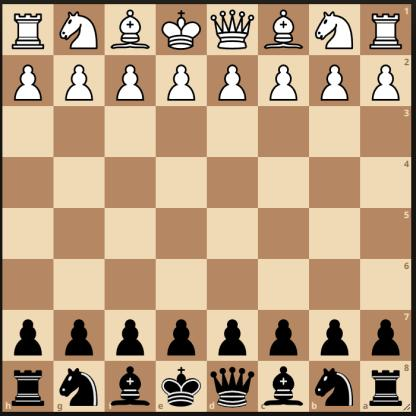black-bishop: (110, 363, 153, 410), (263, 364, 304, 408)
black-king: (161, 364, 203, 410)
black-knight: (313, 363, 356, 408), (58, 364, 101, 408)
black-pawn: (61, 316, 98, 358), (112, 316, 148, 357), (266, 316, 302, 357), (317, 316, 353, 357), (11, 317, 46, 358), (164, 315, 198, 357), (216, 316, 250, 358), (370, 315, 402, 358)
black-queen: (210, 364, 256, 409)
black-rook: (368, 366, 407, 408), (11, 365, 46, 407)
white-bishop: (262, 5, 304, 50), (109, 7, 151, 51)
white-king: (158, 8, 206, 53)
white-knight: (57, 9, 100, 52), (314, 8, 354, 50)
white-pawn: (11, 60, 46, 103), (318, 62, 352, 103), (216, 61, 250, 102), (114, 62, 148, 103), (63, 61, 96, 103), (369, 60, 401, 103), (166, 61, 197, 103), (268, 61, 298, 103)
white-queen: (209, 7, 257, 52)
white-rook: (8, 9, 50, 52), (368, 11, 403, 50)
